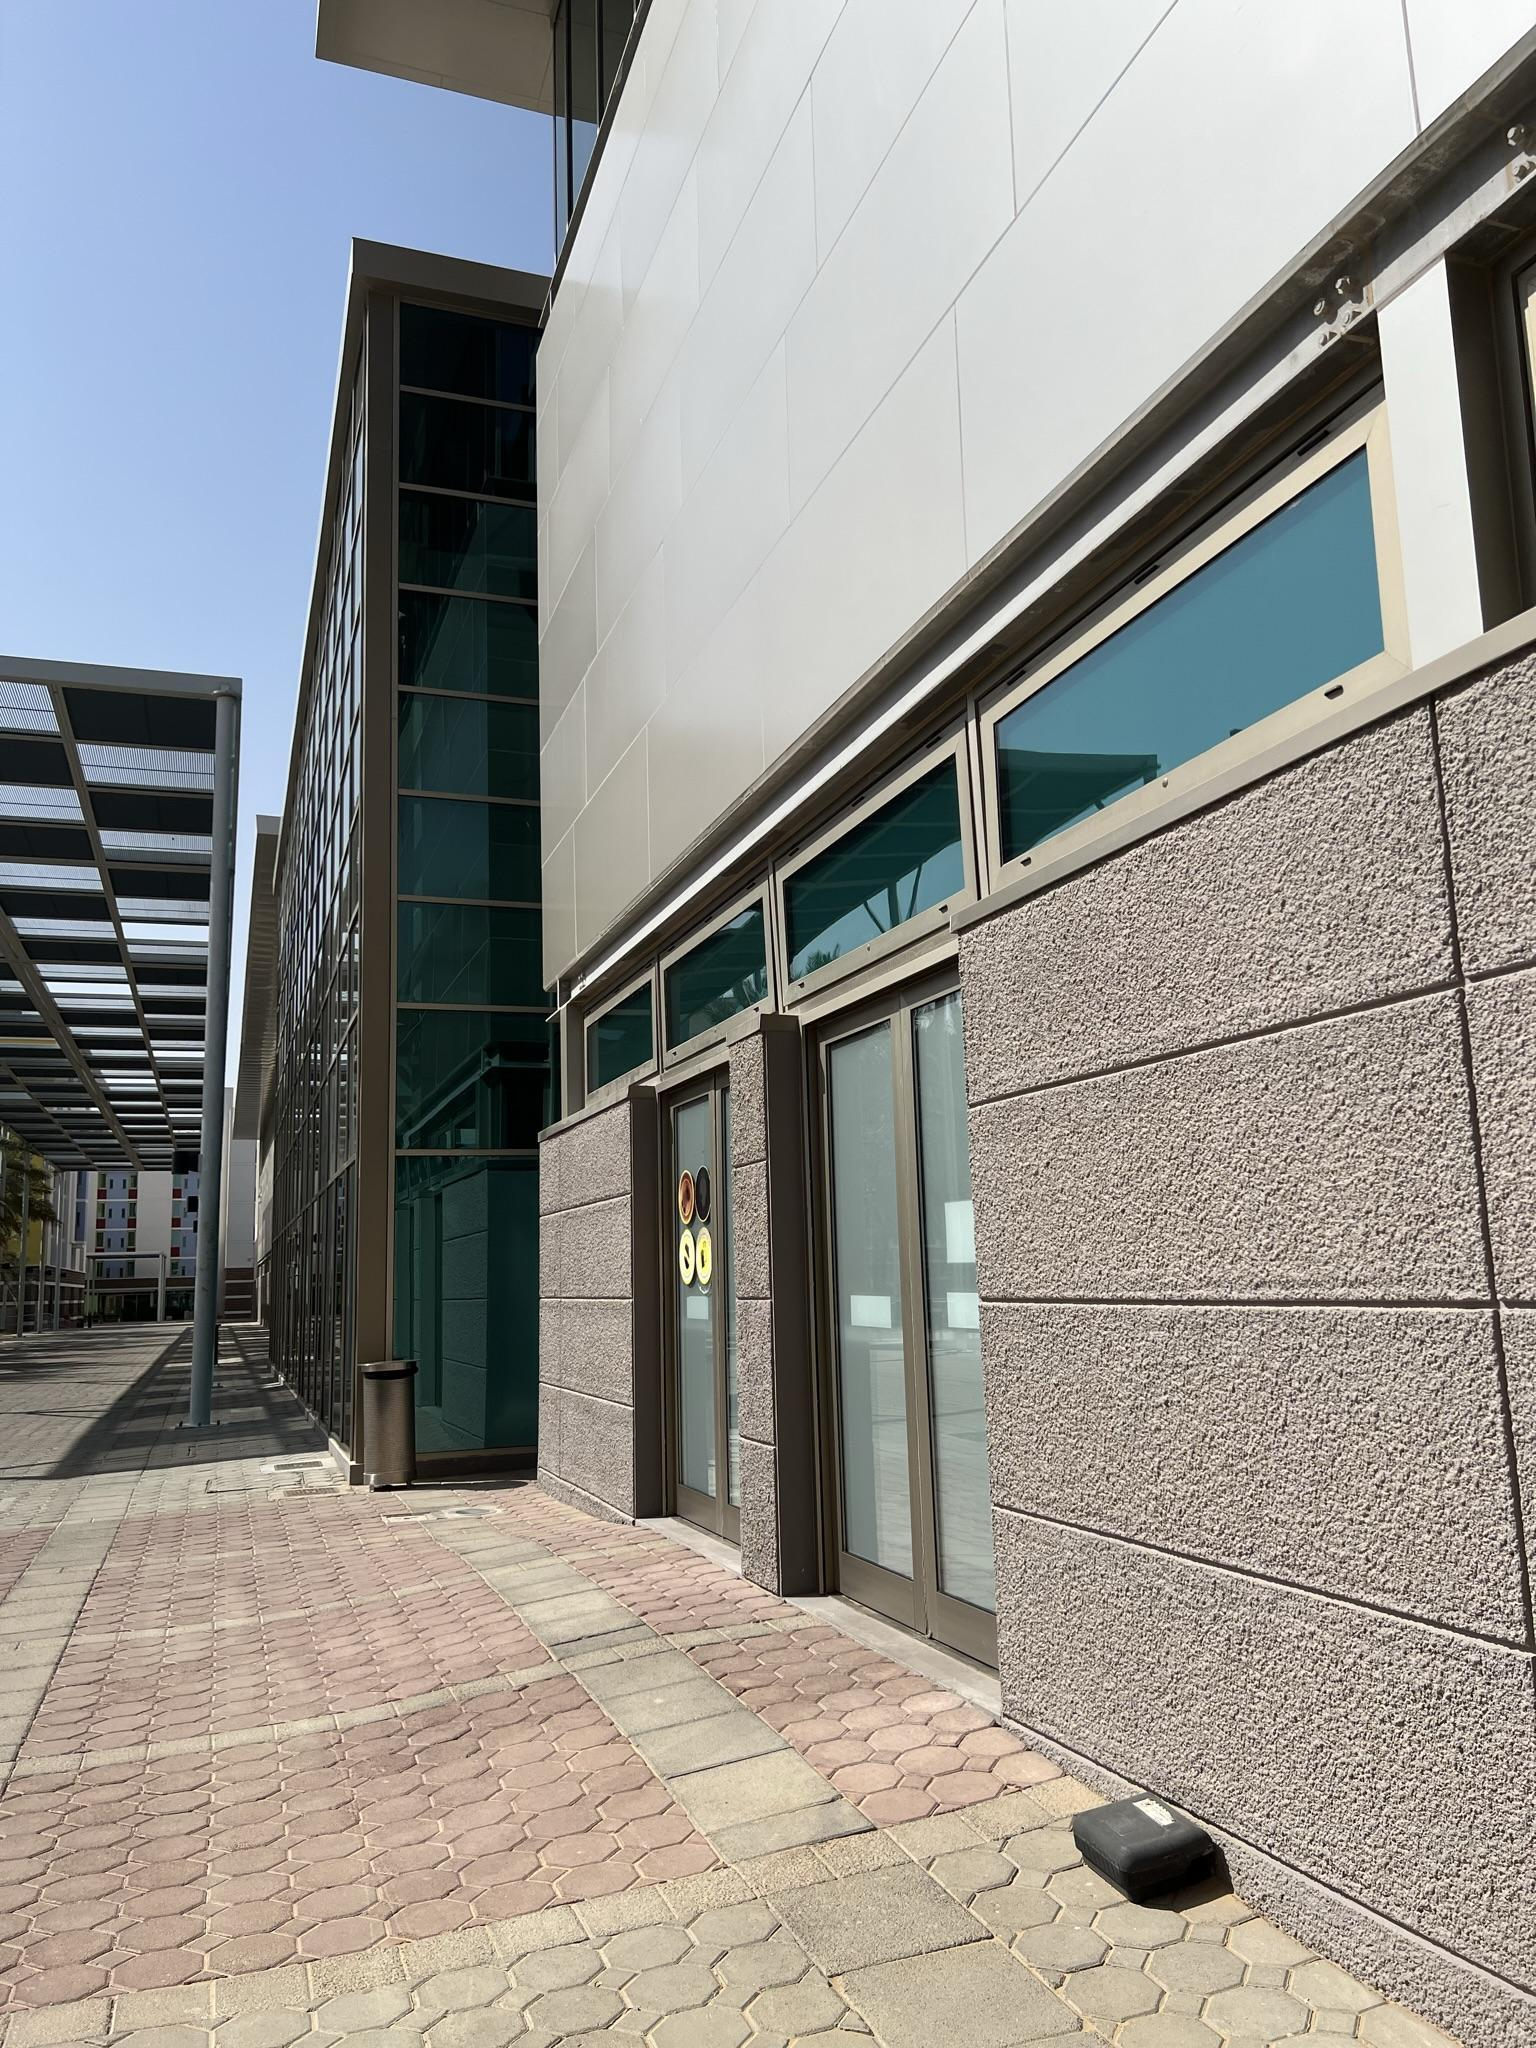door: (813, 1018, 931, 1625), (916, 985, 1012, 1667), (660, 1084, 739, 1542)
